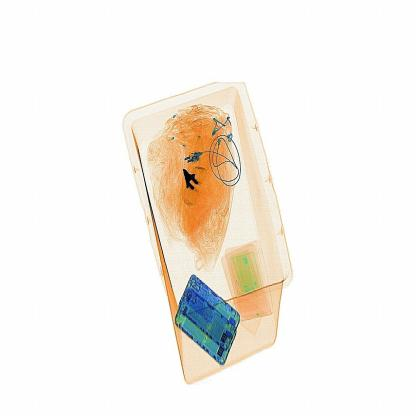gun: (174, 165, 214, 206)
